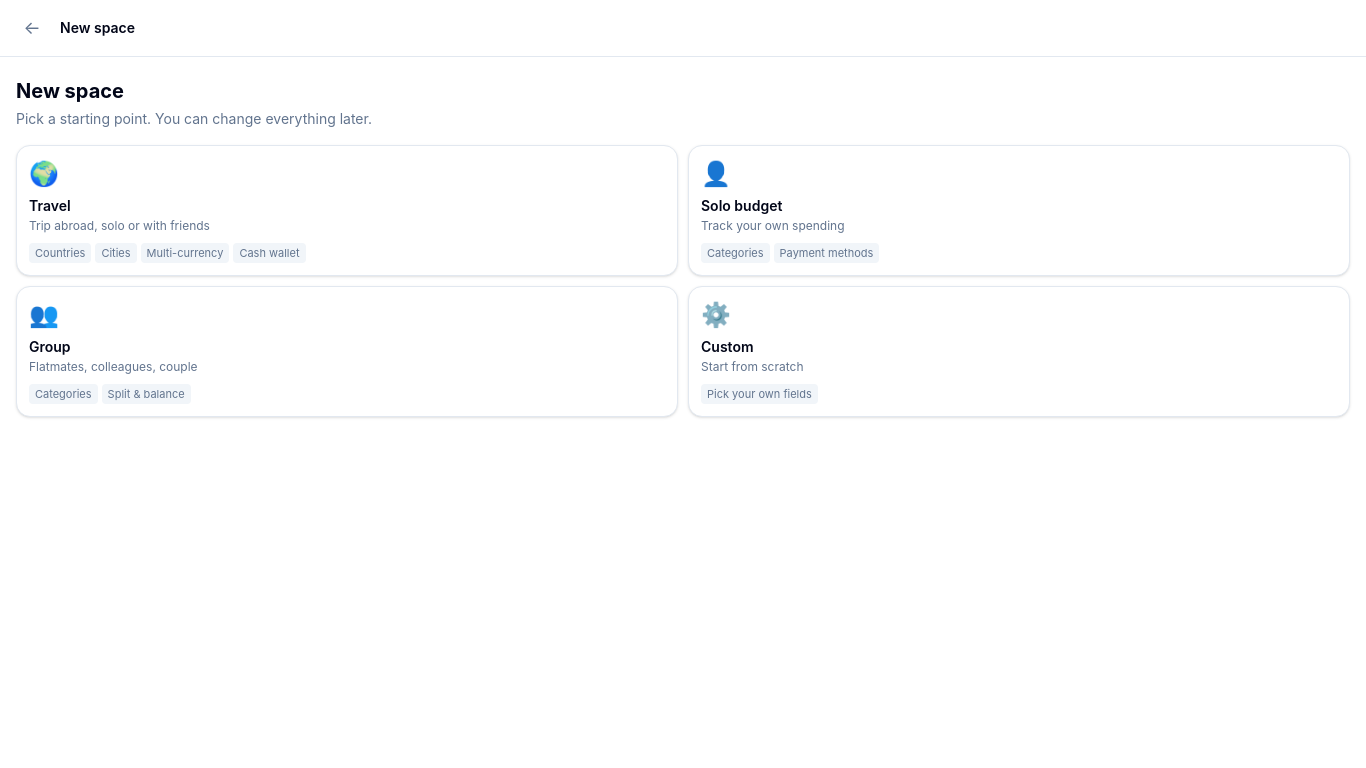
it: SpaceCreatePage — preset step › picking a preset advances to essentials and pre-fills the emoji
Click the button "Solo budget": x=742, y=206 [688,145,1350,276]
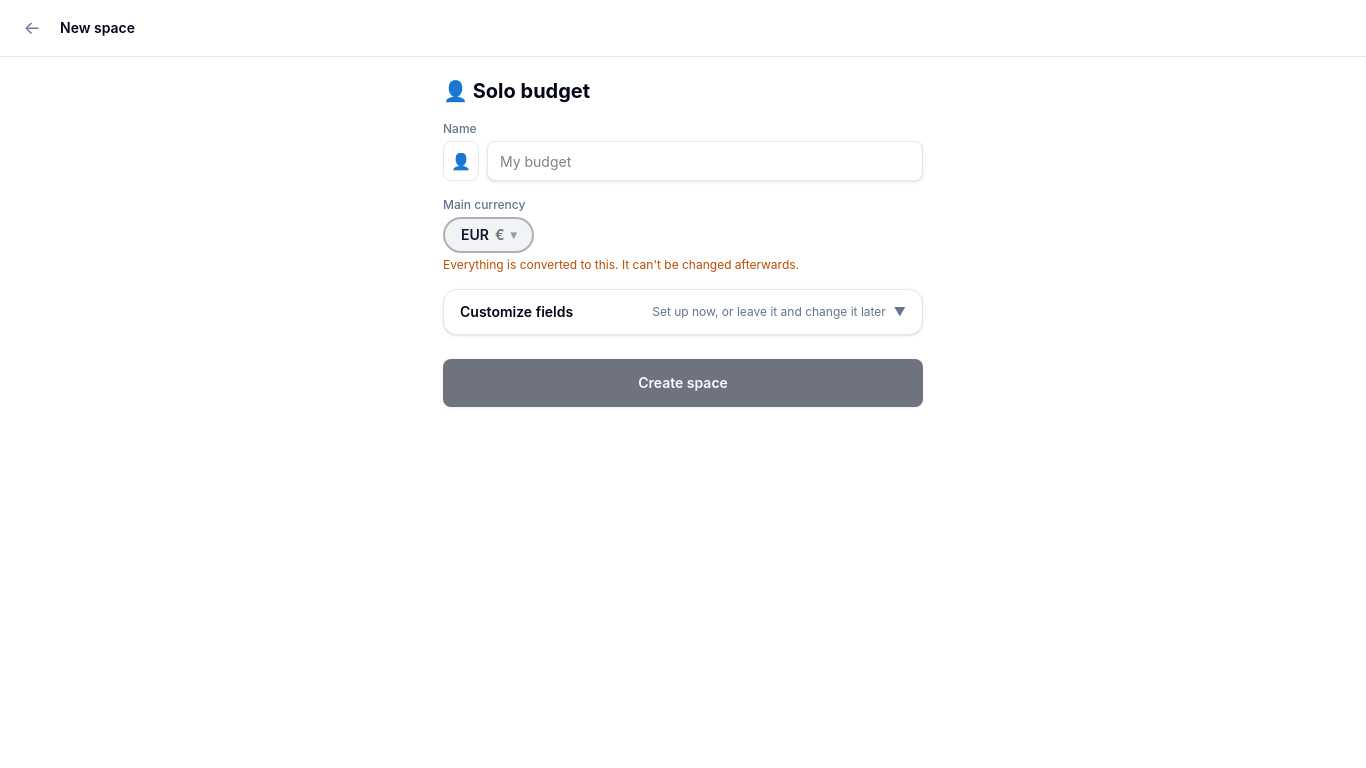
expect the field with placeholder "My budget" is shown: met, box [487,141,923,181]
expect the field named "Space emoji" holds "👤": met, box [443,141,479,181]
